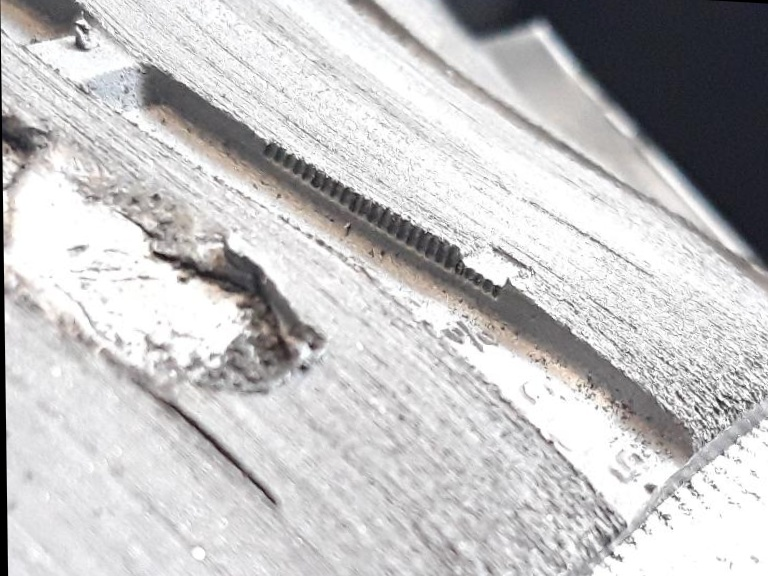temoin:0: (420, 208, 540, 315)
